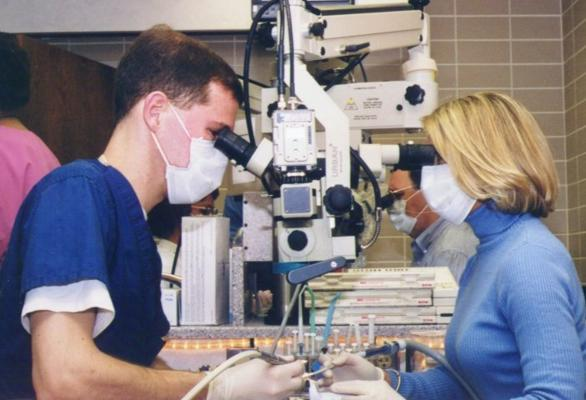person: (4, 27, 309, 400)
